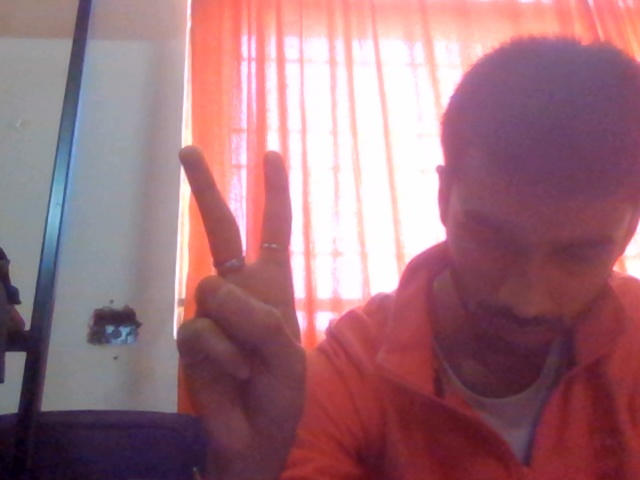V: (129, 131, 335, 480)
